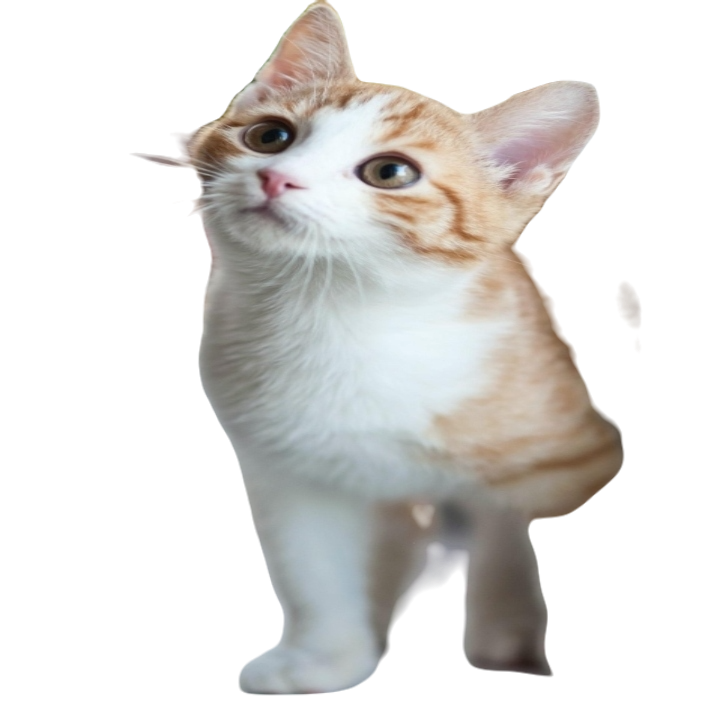Cat: (157, 0, 629, 692)
